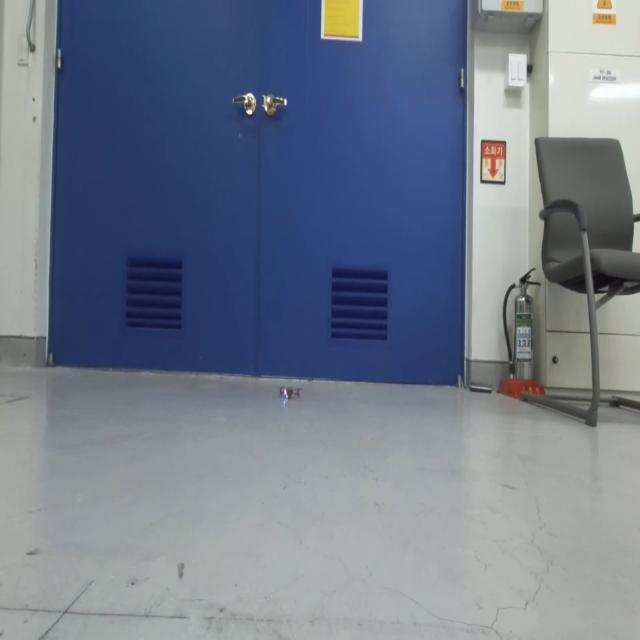crazyflie: (278, 380, 304, 407)
